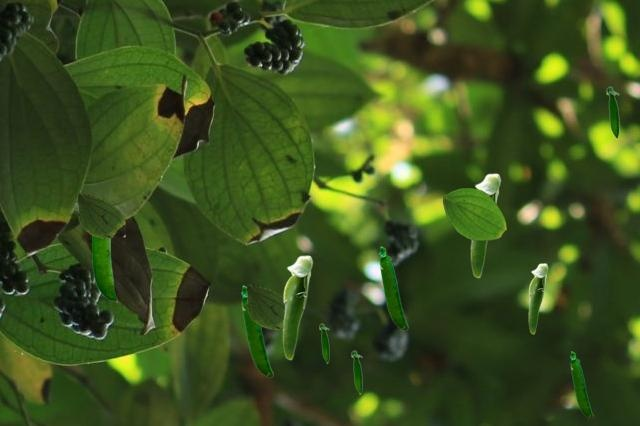pea: (282, 255, 312, 359), (470, 173, 500, 277), (241, 285, 272, 376), (379, 246, 407, 329), (92, 236, 116, 301), (570, 351, 592, 417), (528, 263, 547, 333), (606, 86, 618, 139), (351, 350, 361, 394), (319, 323, 328, 363)
